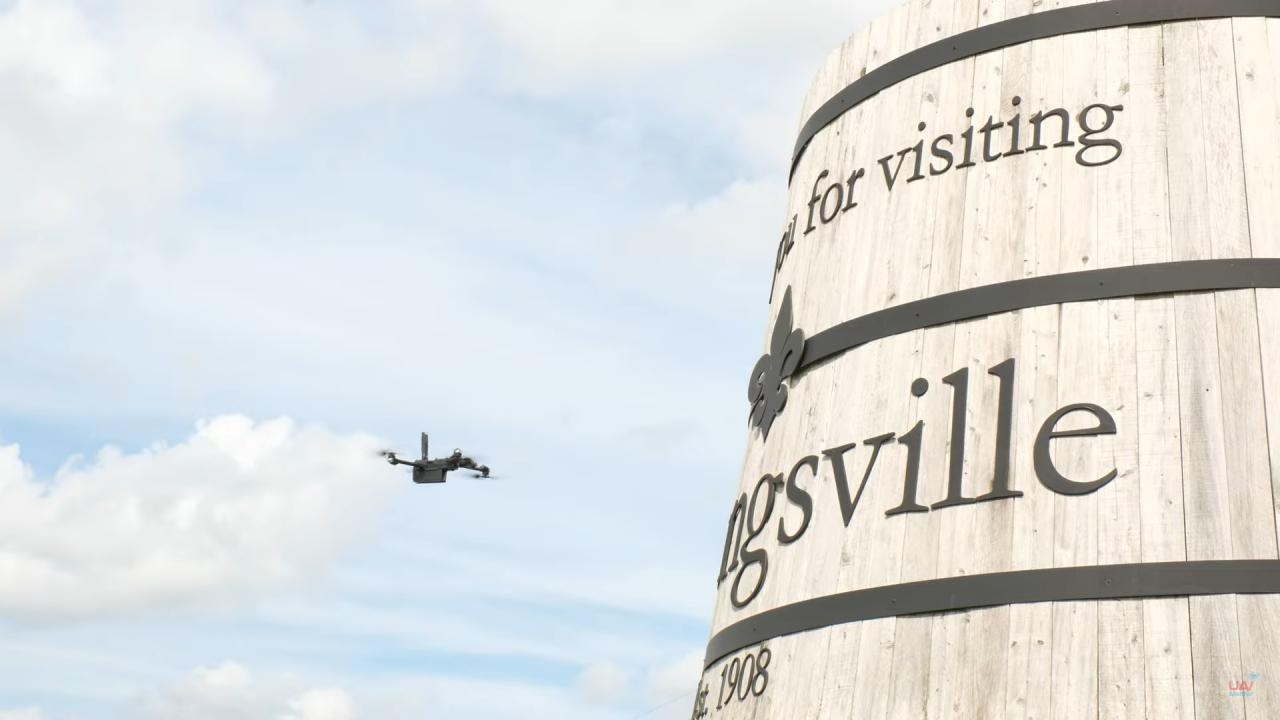Drone: (361, 425, 514, 496)
